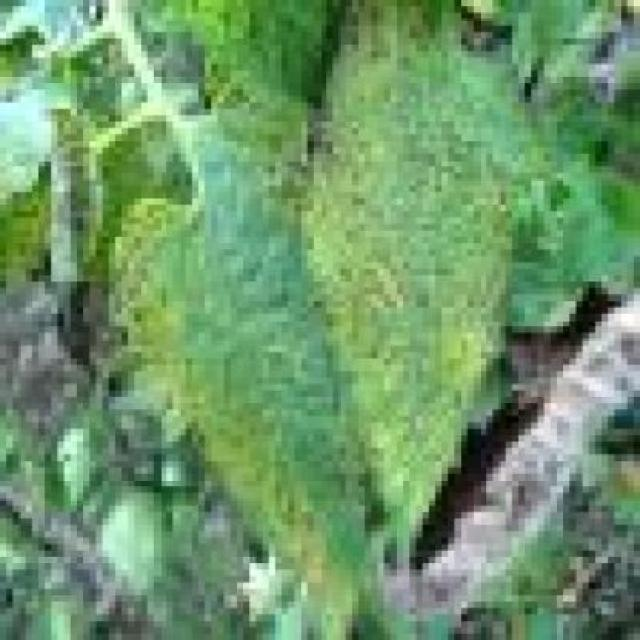Septoria leaf spot: (77, 83, 377, 628), (302, 6, 544, 589)
